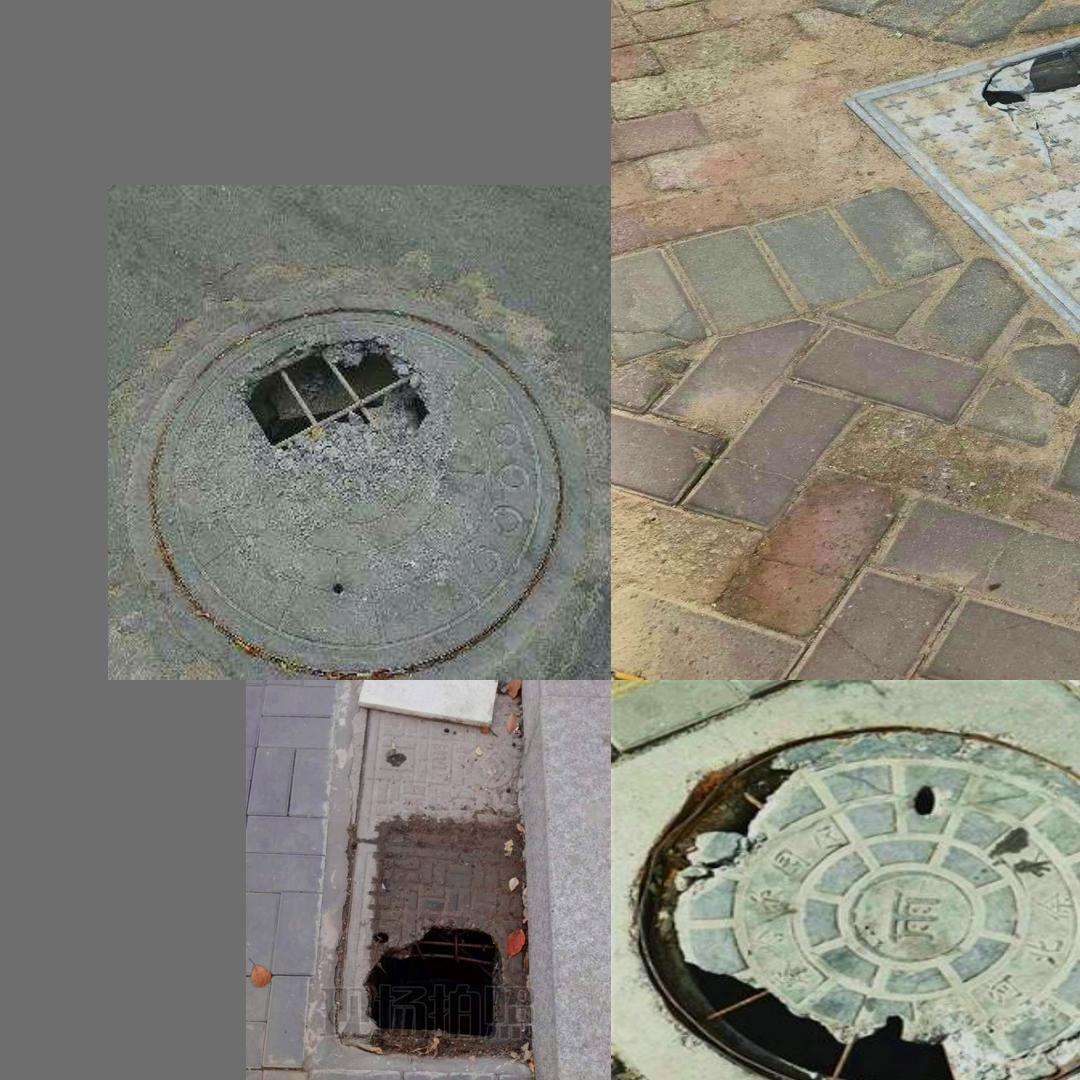broke: (633, 716, 1080, 1080), (133, 307, 562, 676), (847, 0, 1080, 368), (342, 766, 553, 1063)
